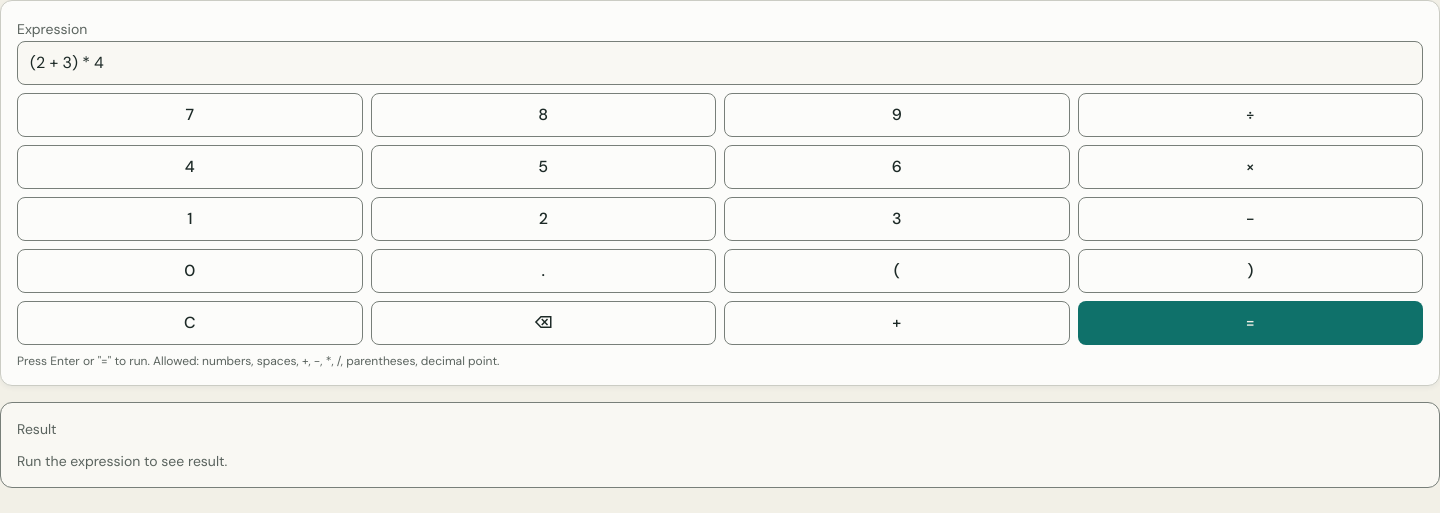
Test: calculator execution controls › the on-screen equals button uses the same calculation
Click the button "=" at (1250, 323), box [1078,301,1423,345]
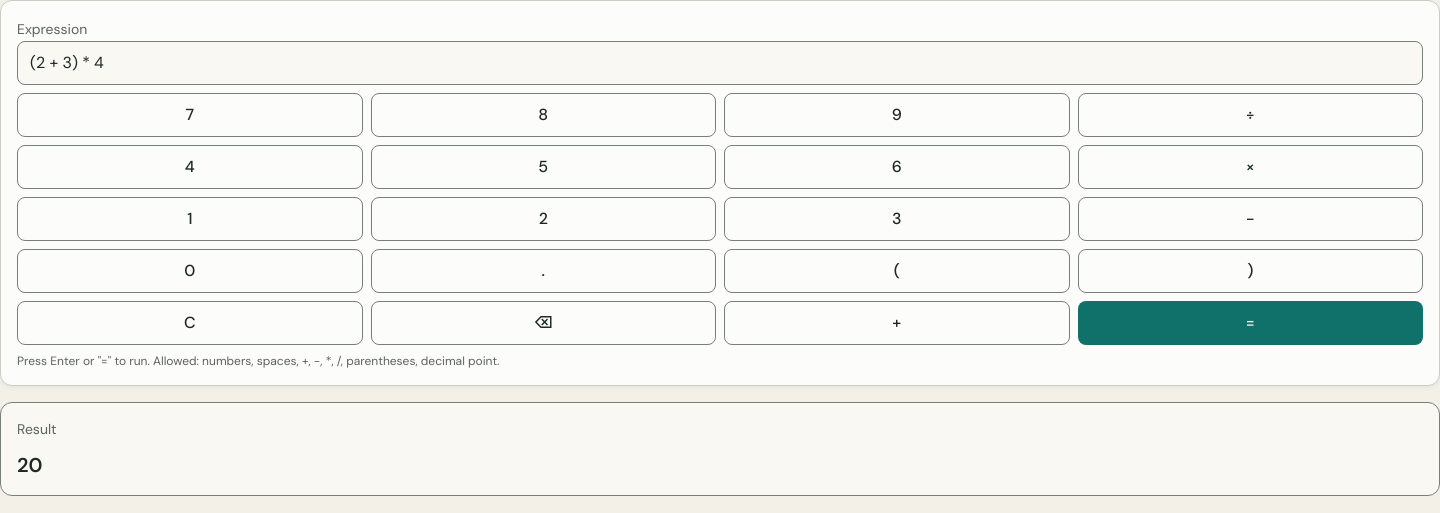
Check: the text "20" is shown, box [17,452,42,478]
